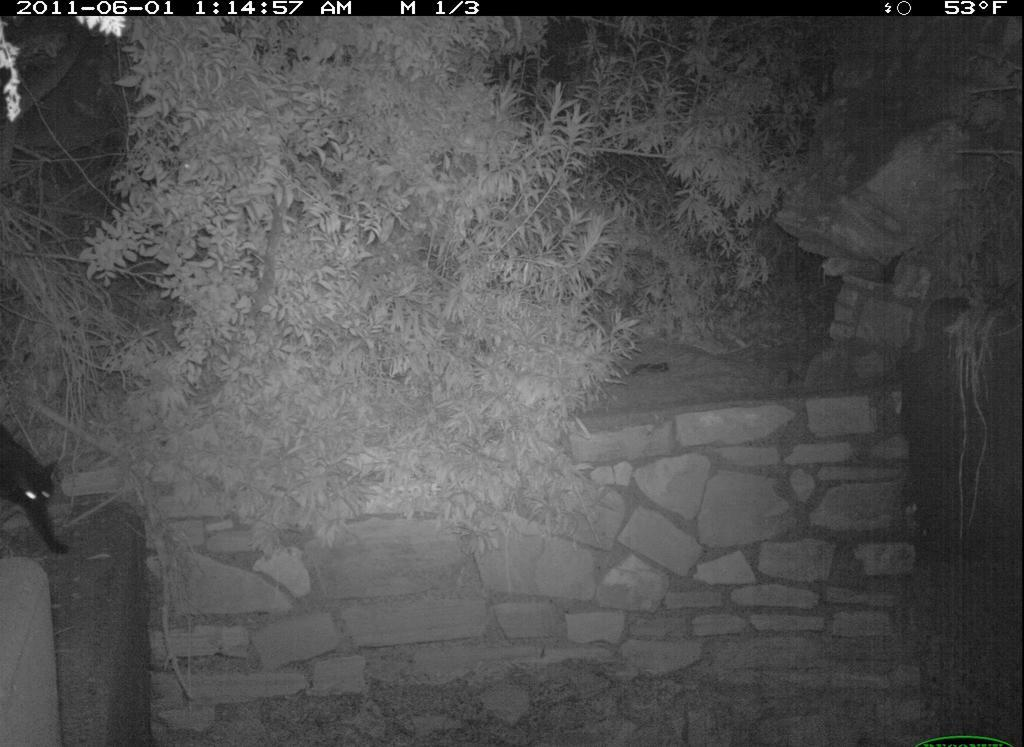cat: (2, 408, 80, 564)
